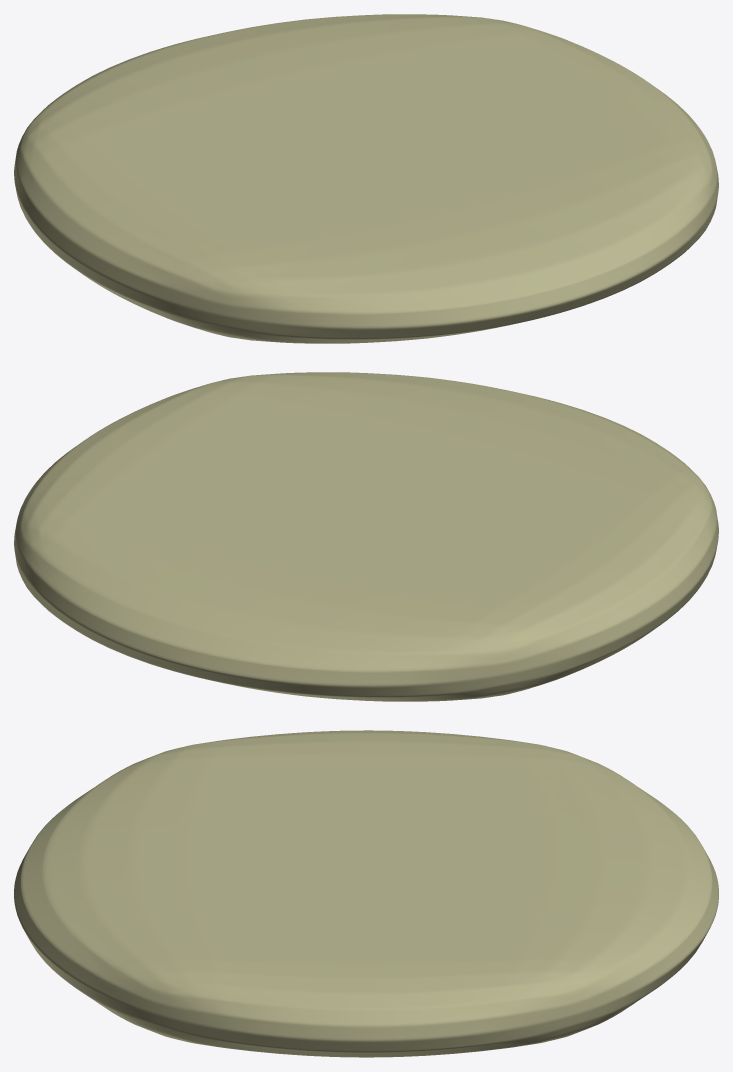
Rendered from MixedIngredientsBowl.fbx.
The picture shows the model from 3 angles, top to bottom: view 1: azimuth 30°, elevation 25°; view 2: azimuth 150°, elevation 25°; view 3: azimuth 270°, elevation 25°; orthographic projection.
Visible parts, largest first — view 1: MixedGunk; view 2: MixedGunk; view 3: MixedGunk.
Boxes of the visible parts, <box> form: MixedGunk: <box>14,14,718,343</box>; MixedGunk: <box>14,372,718,701</box>; MixedGunk: <box>14,730,718,1057</box>.
Size of the model in its own units: 133 by 14.82 by 135.
